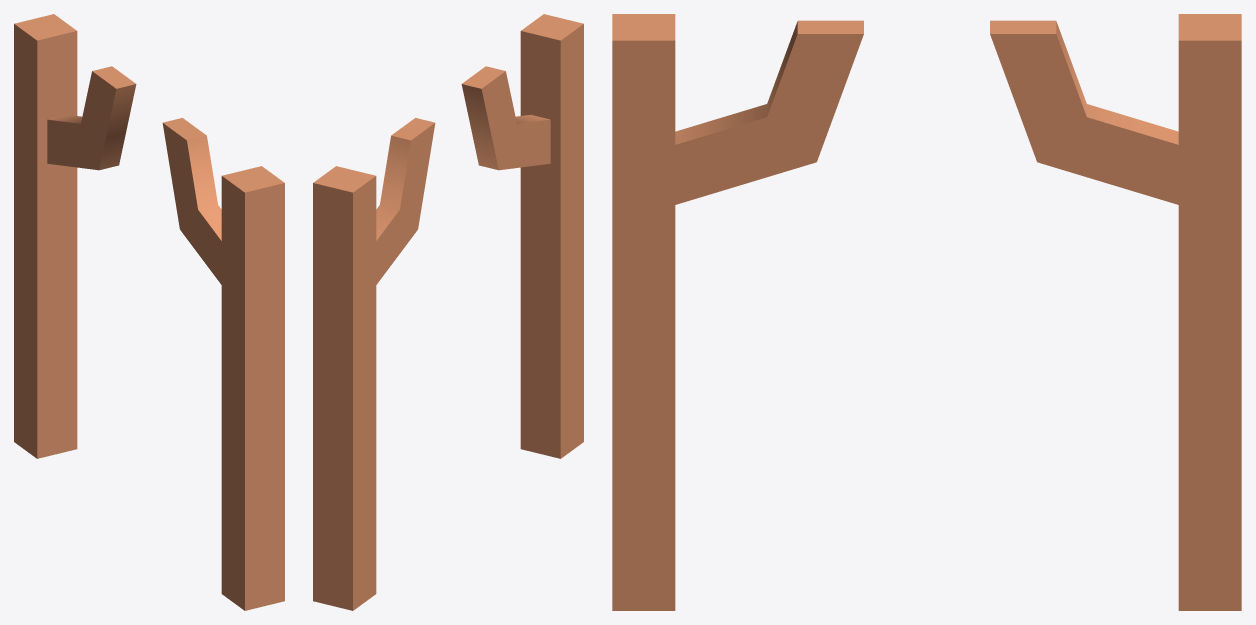
File: balconyWall.glb
3 renders of one model, left to right at view 1: azimuth 30°, elevation 25°; view 2: azimuth 150°, elevation 25°; view 3: azimuth 270°, elevation 25°, orthographic. The views are drawn at different scales.
Parts seen in each view (by area): view 1: balconyWall; view 2: balconyWall; view 3: balconyWall.
Part boxes in pixels (box(x1,y1,x2,y2)): balconyWall: box(14, 14, 284, 610); balconyWall: box(313, 14, 583, 610); balconyWall: box(612, 14, 1241, 610).
Size of the model in its own units: 0.3 by 3 by 3.
